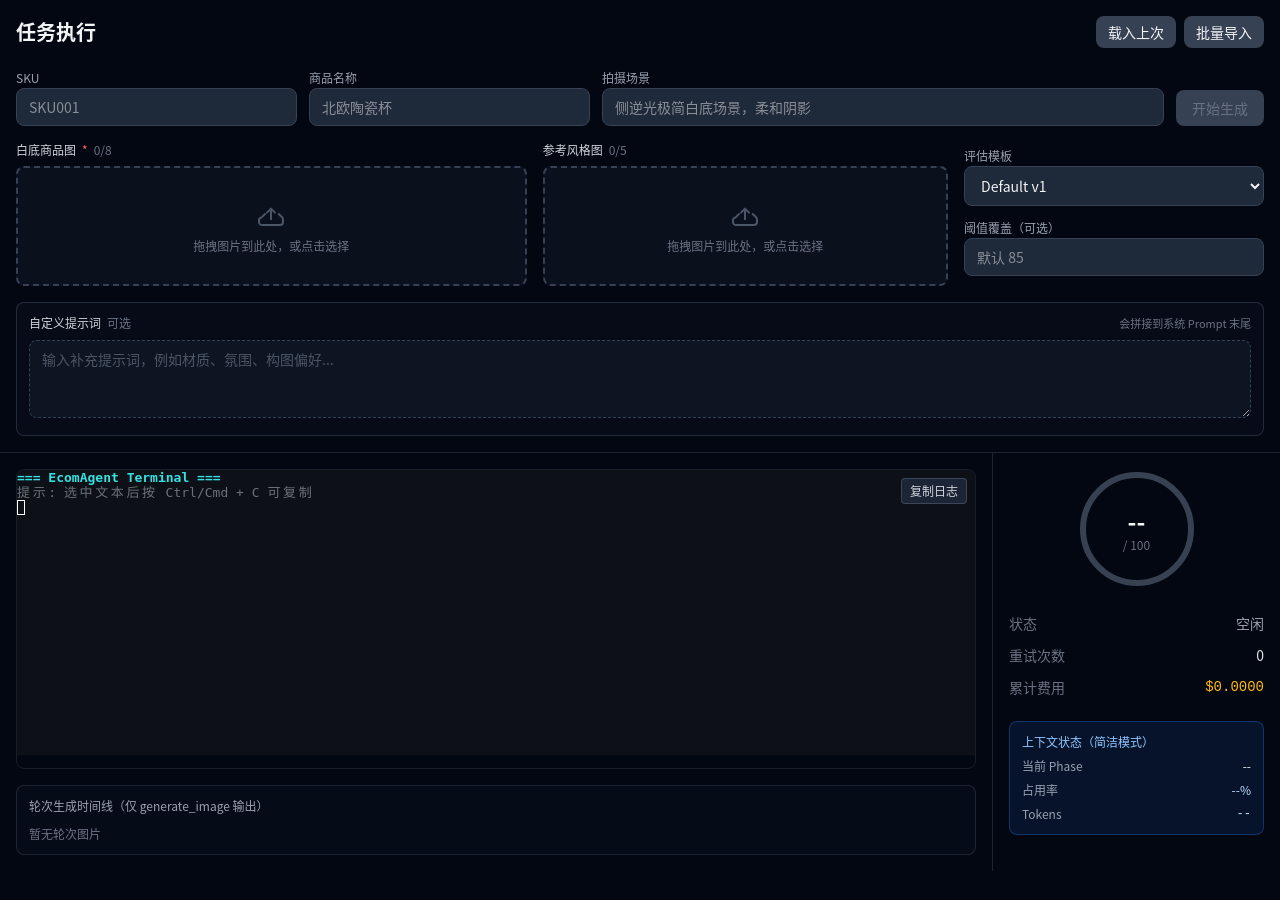
Scenario: TaskRun round preview timeline › does not auto-start when loading snapshot
Click the button with test id "taskrun-load-last-button".
click(1136, 32)  # box [1096, 16, 1176, 48]
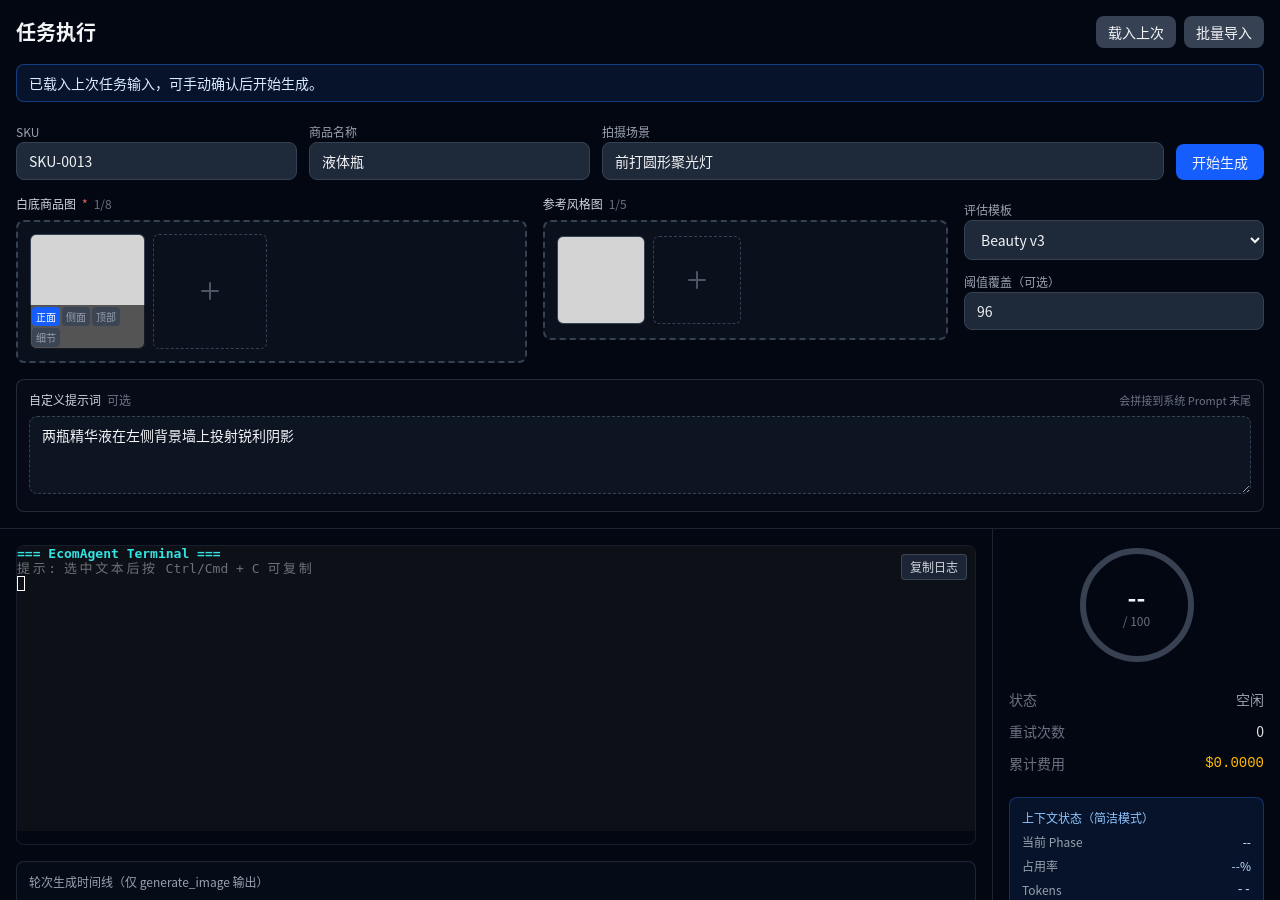
Now the text "已载入上次任务输入，可手动确认后开始生成。" is shown, box [16, 64, 1264, 102]
